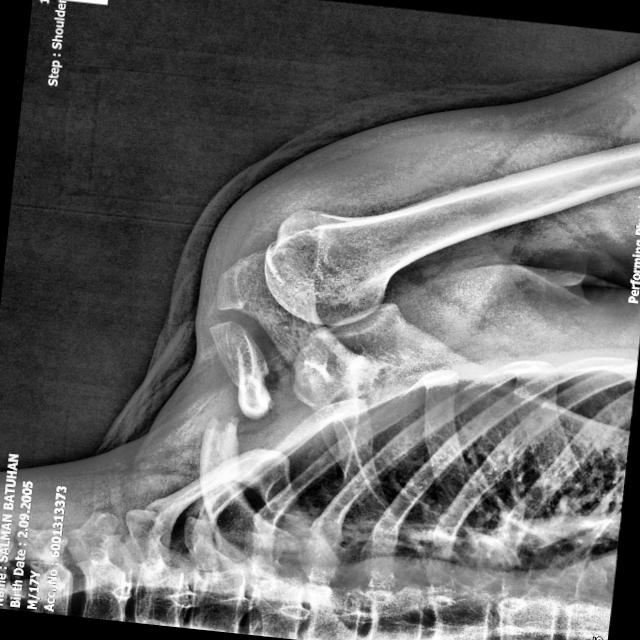Fracture: (186, 372, 283, 456)
